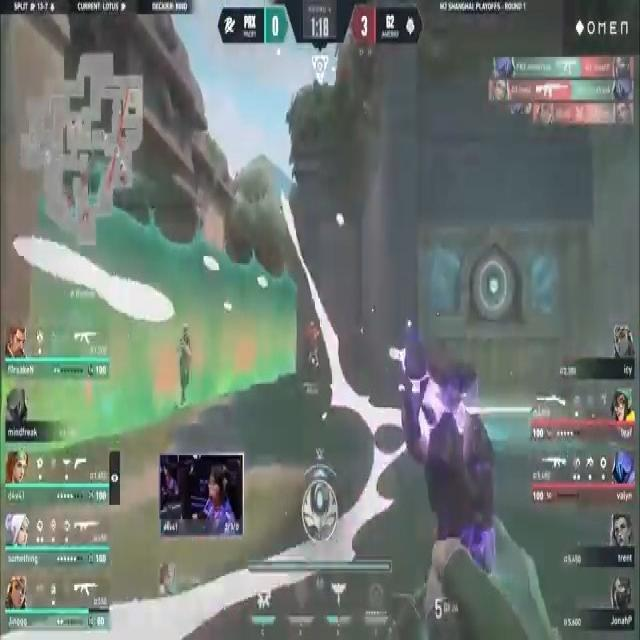ally: (178, 323, 192, 409)
